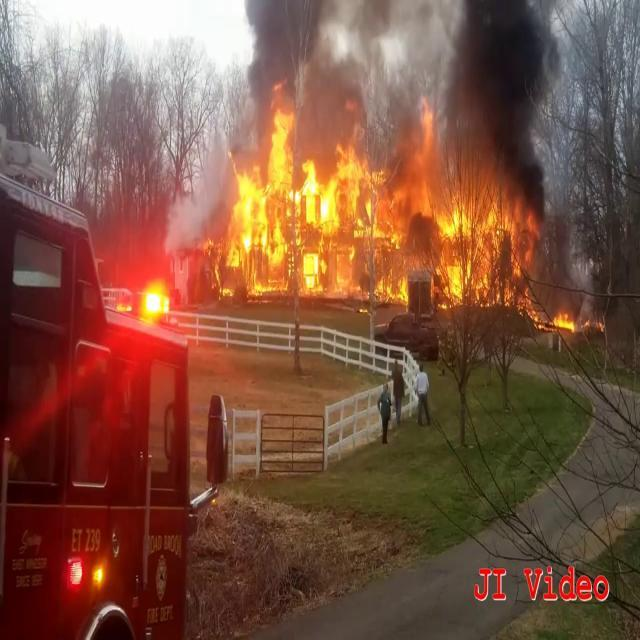Fire: (217, 107, 536, 310), (536, 302, 596, 336)
Smoke: (222, 0, 437, 133), (439, 0, 576, 189)
